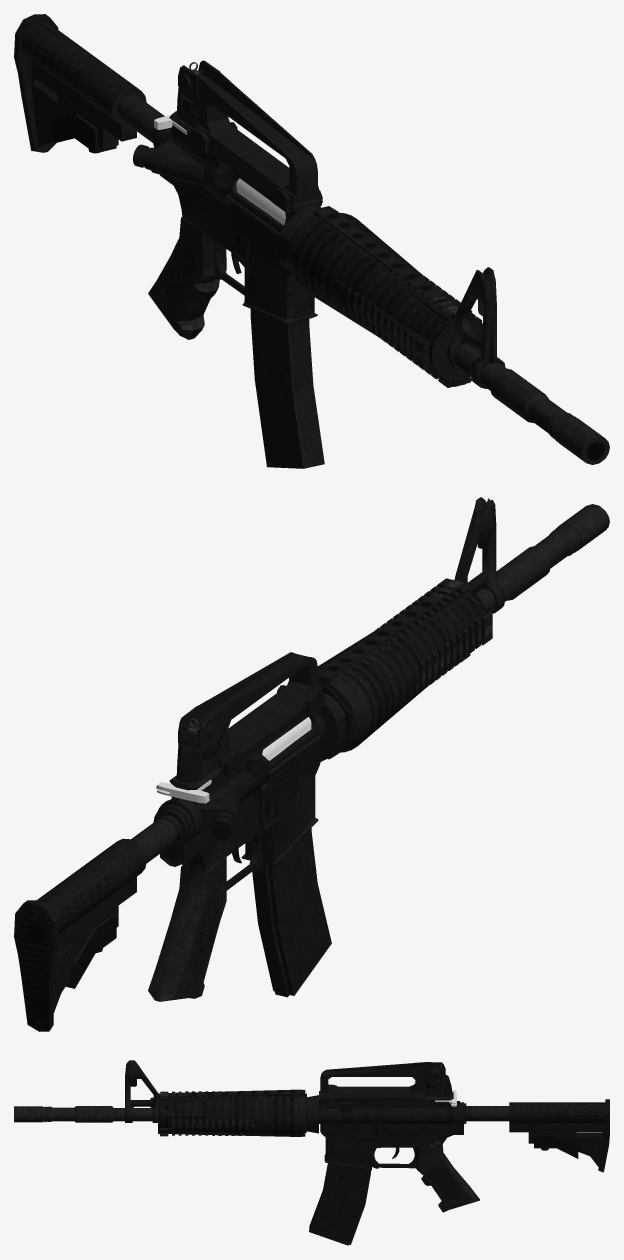
Rendered from mtf_rifle.gltf.
3 renders of one model, top to bottom at view 1: azimuth 30°, elevation 25°; view 2: azimuth 150°, elevation 25°; view 3: azimuth 270°, elevation 25°, orthographic. The views are drawn at different scales.
Visible parts, largest first — view 1: M4.001, M4Stock2.002, M4ForeGrip.001, Carryhandle.000, M4Mag, M4.004, M4.002, M4Sight.001, M4BoltCharge; view 2: M4.001, M4Stock2.002, M4ForeGrip.001, Carryhandle.000, M4Mag, M4.004, M4.002, M4Sight.001, M4BoltCharge; view 3: M4.001, M4Stock2.002, M4ForeGrip.001, Carryhandle.000, M4Mag, M4.002, M4.004, M4Sight.001.
Boxes of the visible parts, box(x1,y1,x2,y2) form: M4.001: box(133, 111, 322, 339); M4Stock2.002: box(14, 14, 164, 153); M4ForeGrip.001: box(287, 206, 482, 386); Carryhandle.000: box(176, 60, 322, 212); M4Mag: box(250, 309, 324, 468); M4.004: box(454, 343, 609, 464); M4.002: box(290, 216, 482, 387); M4Sight.001: box(446, 267, 505, 388); M4BoltCharge: box(154, 115, 285, 224); M4.001: box(148, 693, 345, 1001); M4Stock2.002: box(14, 808, 188, 1031); M4ForeGrip.001: box(317, 579, 487, 759); Carryhandle.000: box(176, 652, 324, 783); M4Mag: box(252, 828, 331, 997); M4.004: box(475, 504, 609, 612); M4.002: box(318, 578, 492, 754); M4Sight.001: box(455, 497, 505, 613); M4BoltCharge: box(156, 717, 311, 803); M4.001: box(306, 1091, 479, 1212); M4Stock2.002: box(464, 1099, 609, 1172); M4ForeGrip.001: box(158, 1089, 305, 1136); Carryhandle.000: box(320, 1062, 452, 1102); M4Mag: box(309, 1163, 371, 1245); M4.002: box(160, 1091, 306, 1136); M4.004: box(14, 1106, 152, 1122); M4Sight.001: box(125, 1060, 157, 1122).
Bounding box in the file's own units: 1.07 × 3.97 × 11.73.
Materials: 4 (3 with a texture image).
